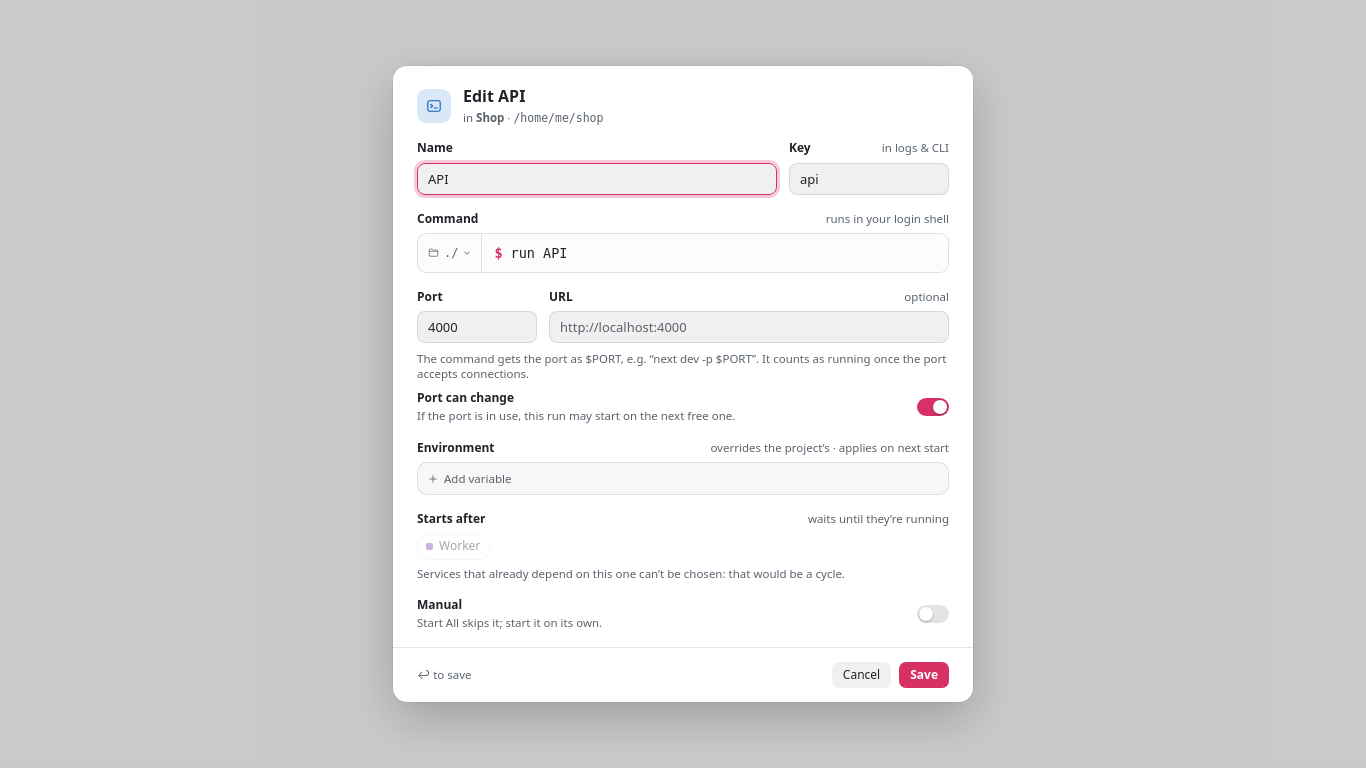
Scenario: Sheets › doesn't offer a Dependency that would be a cycle, and says why
The image size is (1366, 768).
Check: the button "Worker" is disabled, box 417,534 -> 491,560
Click the switch named "Manual": (933, 614) 917,605 -> 949,623
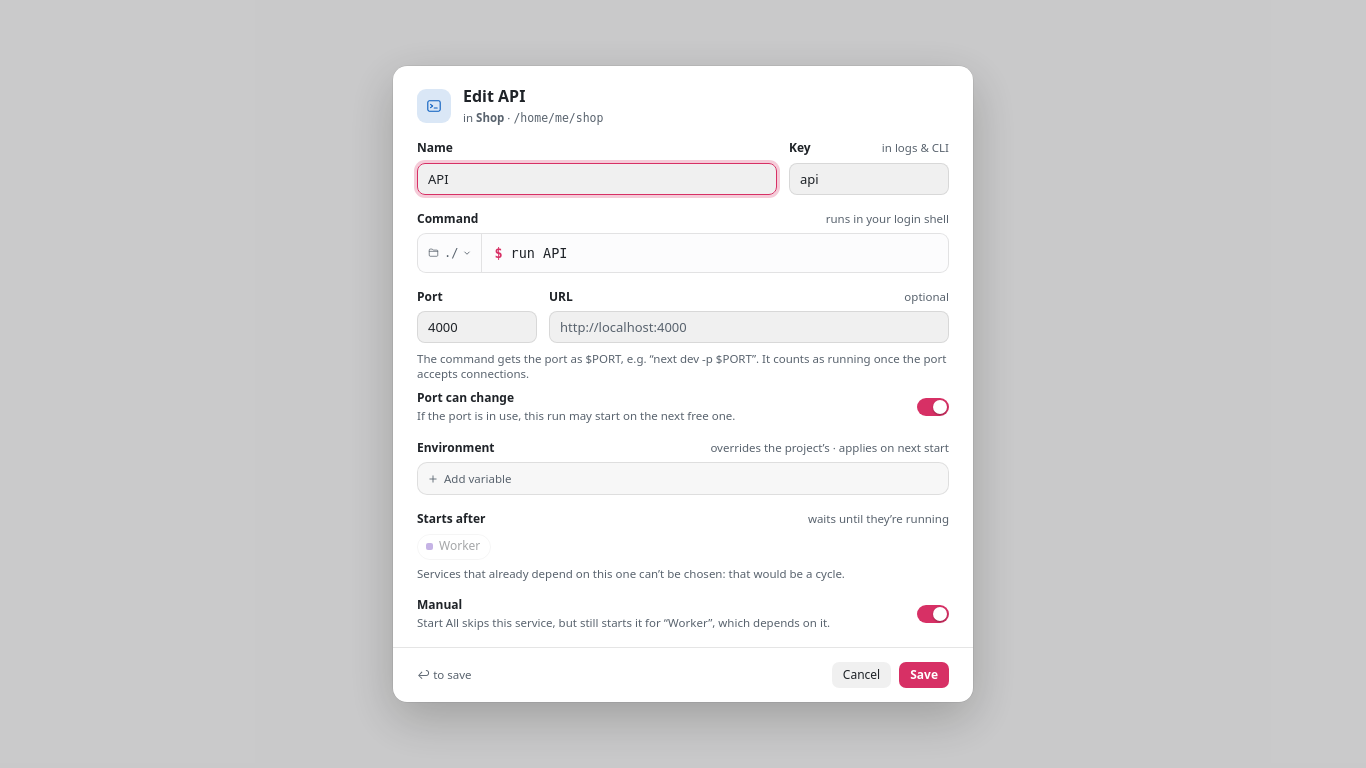
Check: the text "Start All skips this service, but still starts it for “Worker”, which depends on it." is shown, box 417,615 -> 830,630
